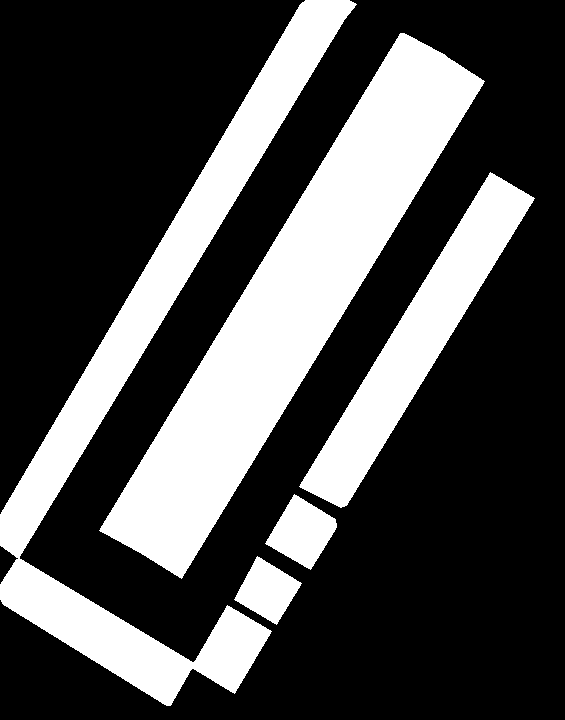parkingspot: (0, 0, 356, 558), (99, 33, 445, 554), (141, 53, 484, 578), (299, 172, 534, 507), (0, 558, 194, 705), (191, 605, 271, 693), (265, 494, 336, 569), (234, 556, 301, 624)
